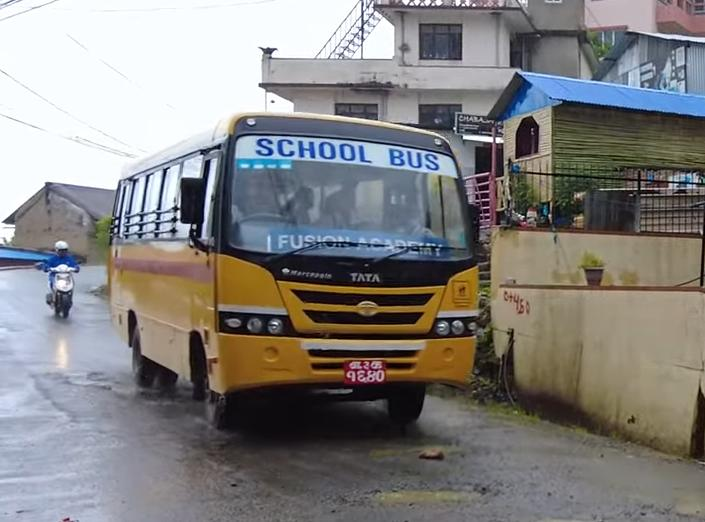school_bus: (104, 106, 484, 432)
scooter: (42, 260, 81, 319)
